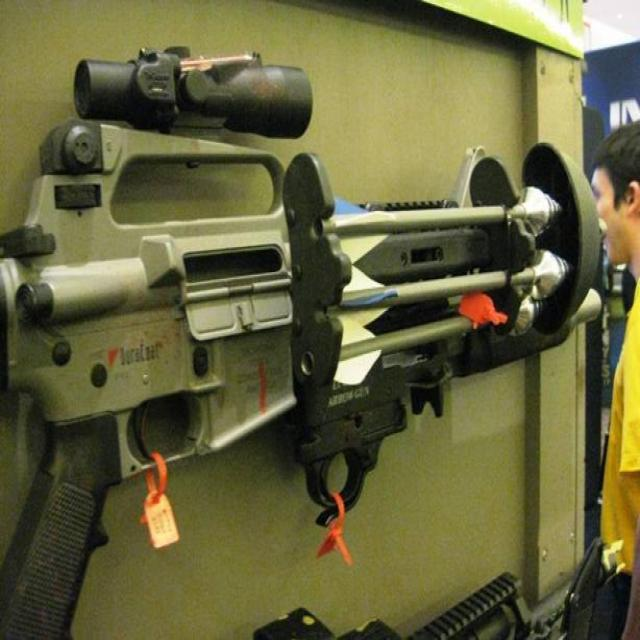firearm: (2, 39, 552, 635)
